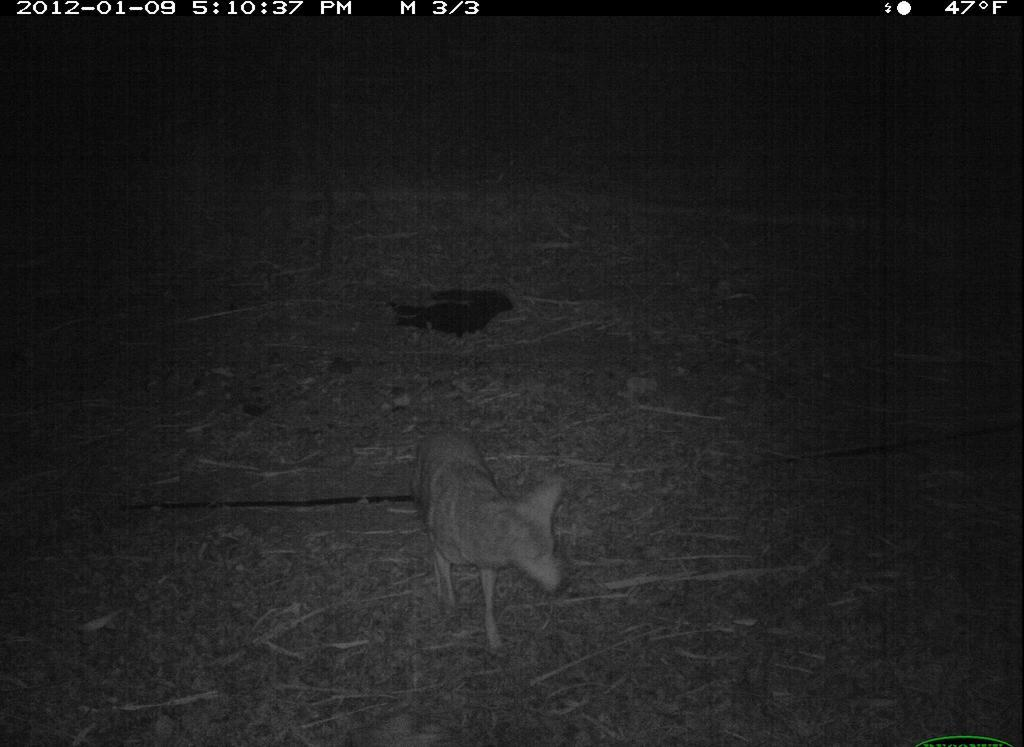coyote: (404, 414, 585, 669)
